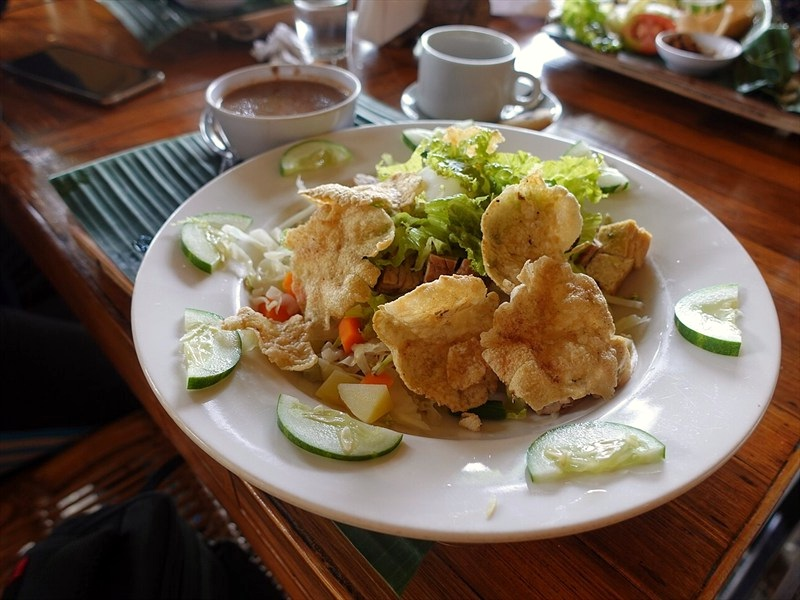Gado-Gado: (137, 19, 763, 526)
